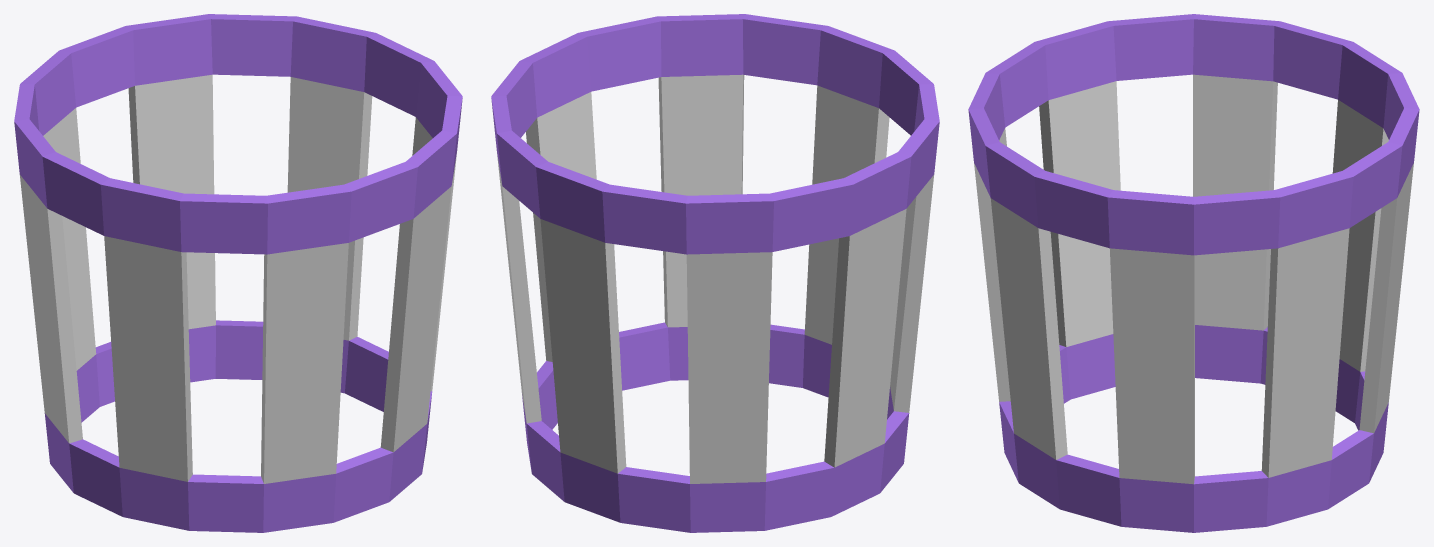
The model's file is embasket2.fbx.
The picture shows the model from 3 angles, left to right: view 1: azimuth 30°, elevation 25°; view 2: azimuth 150°, elevation 25°; view 3: azimuth 270°, elevation 25°; orthographic projection.
Parts seen in each view (by area): view 1: Cylinder; view 2: Cylinder; view 3: Cylinder.
Boxes of the visible parts, <box> form: Cylinder: <box>14,14,462,532</box>; Cylinder: <box>491,14,939,532</box>; Cylinder: <box>968,14,1419,532</box>.
Size of the model in its own units: 238 by 201 by 238.
